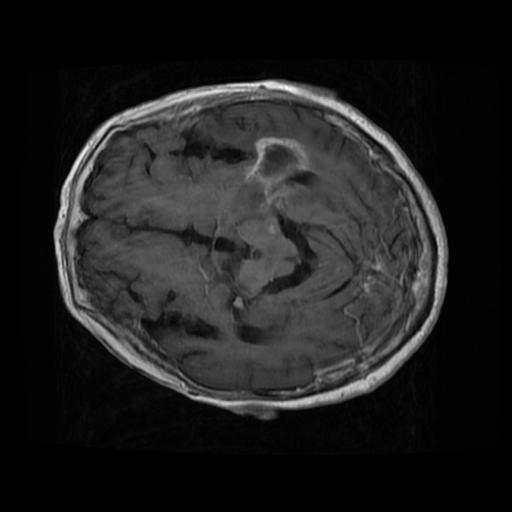glioma: (244, 136, 313, 203)
